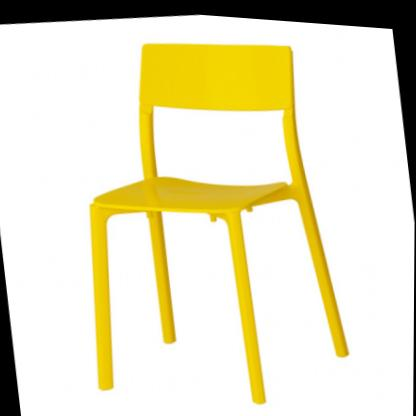Chair: (47, 11, 360, 416)
